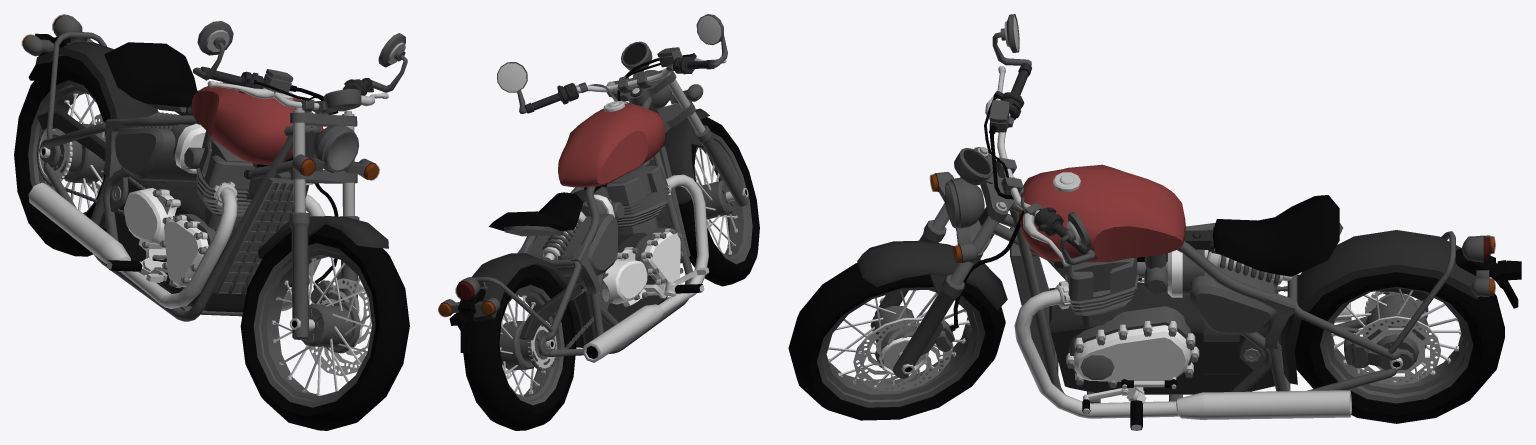
File: moto4.glb
The picture shows the model from 3 angles, left to right: view 1: azimuth 30°, elevation 25°; view 2: azimuth 150°, elevation 25°; view 3: azimuth 270°, elevation 25°; orthographic projection. The views are drawn at different scales.
Parts seen in each view (by area): view 1: B5_Bike_01_Body_0, B5_Bike_01_W_0_3, B5_Bike_01_Steer_2, B5_Bike_01_W_1_1; view 2: B5_Bike_01_Body_0, B5_Bike_01_W_1_1, B5_Bike_01_Steer_2, B5_Bike_01_W_0_3; view 3: B5_Bike_01_Body_0, B5_Bike_01_Steer_2, B5_Bike_01_W_0_3, B5_Bike_01_W_1_1.
Part boxes in pixels (x1,y1,x2,y2): B5_Bike_01_Body_0: (21, 14, 325, 321); B5_Bike_01_W_0_3: (240, 224, 409, 430); B5_Bike_01_Steer_2: (193, 21, 407, 339); B5_Bike_01_W_1_1: (14, 55, 110, 256); B5_Bike_01_Body_0: (438, 87, 709, 370); B5_Bike_01_W_1_1: (463, 264, 576, 430); B5_Bike_01_Steer_2: (497, 14, 749, 206); B5_Bike_01_W_0_3: (679, 117, 759, 286); B5_Bike_01_Body_0: (978, 164, 1521, 430); B5_Bike_01_Steer_2: (857, 14, 1095, 378); B5_Bike_01_W_0_3: (788, 263, 1005, 420); B5_Bike_01_W_1_1: (1294, 272, 1504, 423).
Bounding box in the file's own units: 0.985 × 1.27 × 2.18.
Materials: 5 (3 with a texture image).
